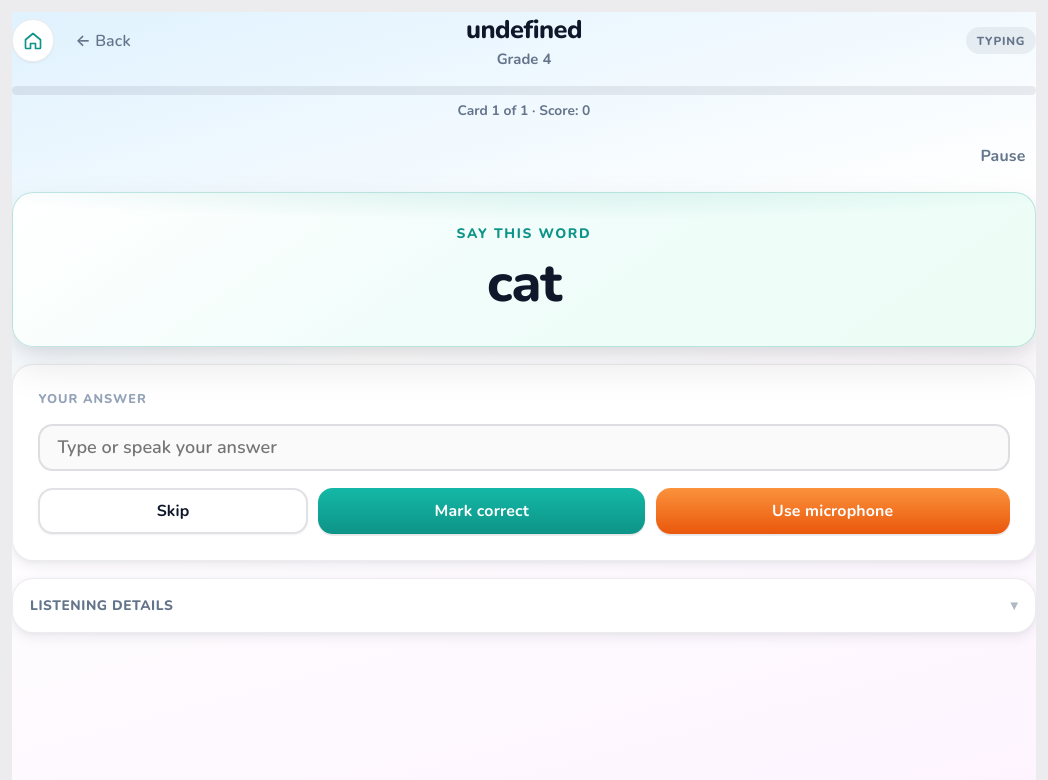
Test: play route (typing and voice) › microphone button › has a fallback message for unexpected failures
What coordinates should you click on to do the following:
click the button "Use microphone"
I would click on:
 (833, 511)
Its box is [656,488,1010,534].
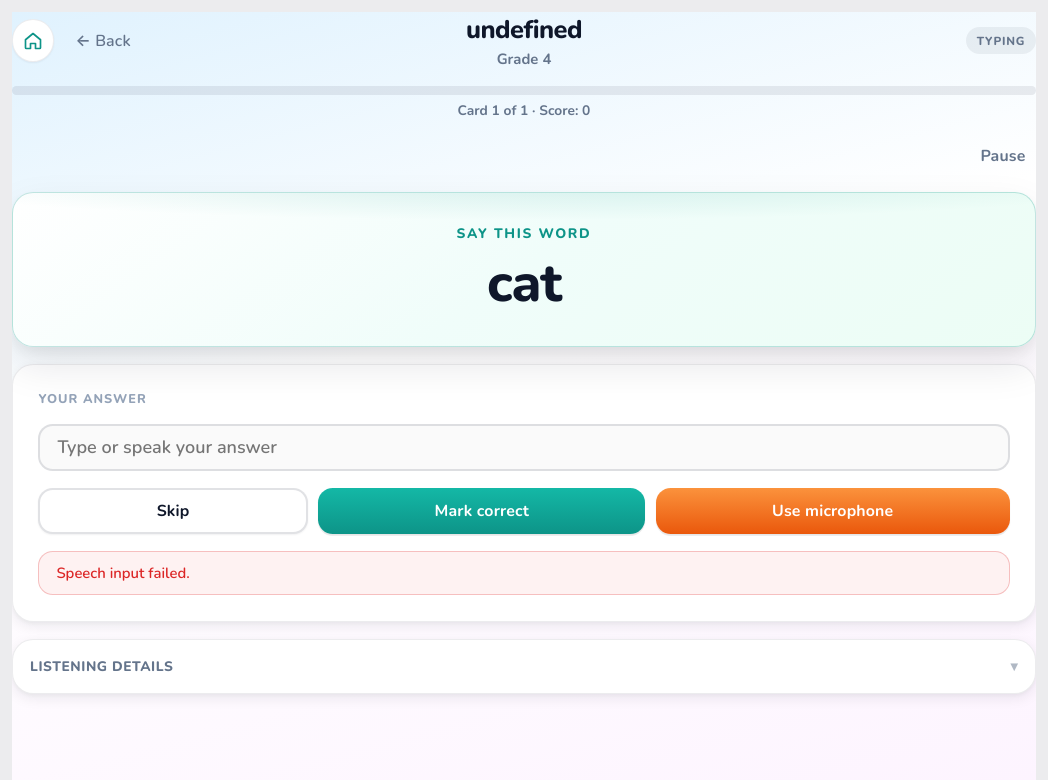
Now the text "Speech input failed." is shown, box [38,551,1010,595]
